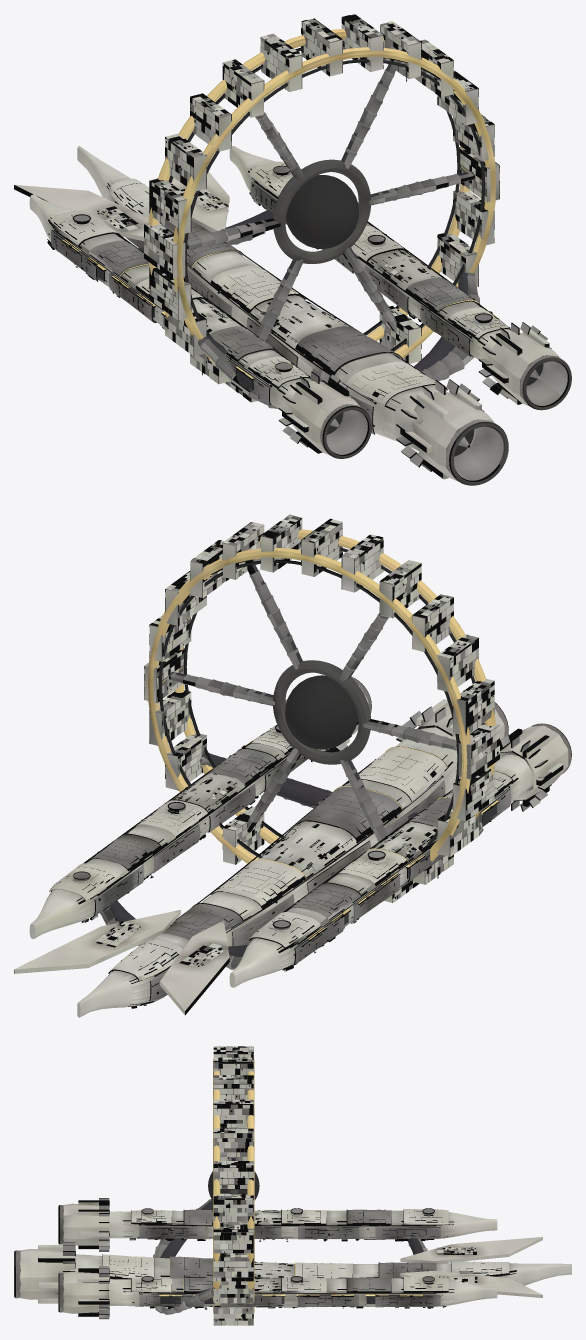
The model's file is daybreak_reliquary_hero.glb.
3 renders of one model, top to bottom at view 1: azimuth 30°, elevation 25°; view 2: azimuth 150°, elevation 25°; view 3: azimuth 270°, elevation 25°, orthographic. The views are drawn at different scales.
Visible parts, largest first — view 1: HullBaked; view 2: HullBaked; view 3: HullBaked.
Part boxes in pixels (<box>): HullBaked: <box>14,14,571,485</box>; HullBaked: <box>14,514,571,1017</box>; HullBaked: <box>14,1046,571,1325</box>.
Bounding box in the file's own units: 1484 × 1559 × 3115.
1 material, 1 textured.
